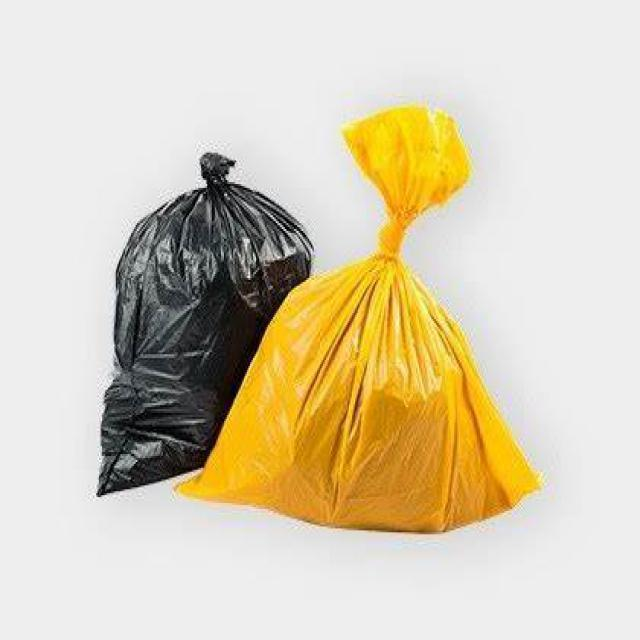waste: (213, 118, 548, 521), (100, 148, 306, 510)
